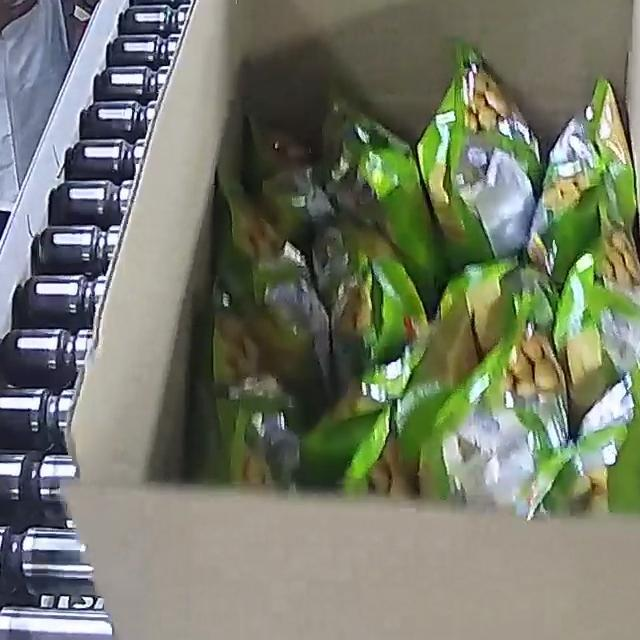yogurt: (203, 37, 640, 522)
